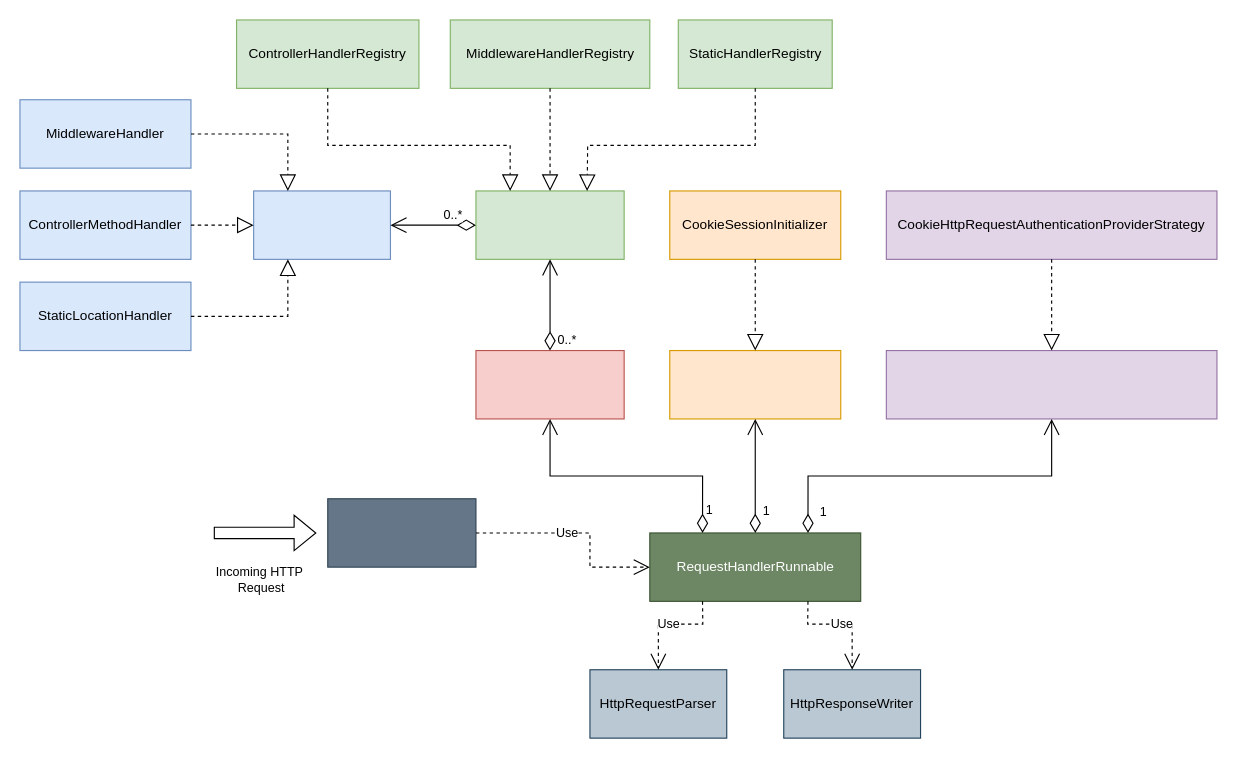
Image size: 1237x758. Some labels were removed from this diagram. The centre of each missing label's shape, as x and y in pixels:
"GrainApp" goes at [401,532].
"HandlerRegistry" goes at [549,224].
"HandlerRunner" goes at [549,384].
"HttpRequestAuthenticationProviderStrategy" goes at [1051,384].
"RequestHandler" goes at [321,224].
"SessionInitializer" goes at [755,384].
